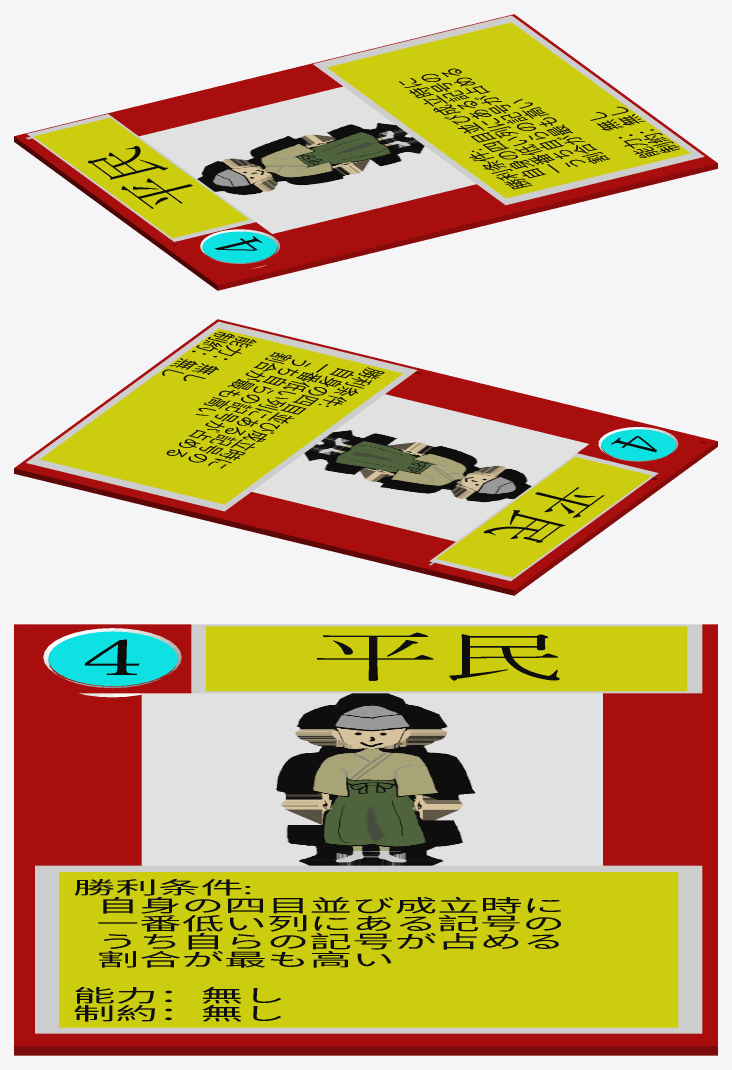
File: 平民赤.fbx
3 renders of one model, top to bottom at view 1: azimuth 30°, elevation 25°; view 2: azimuth 150°, elevation 25°; view 3: azimuth 270°, elevation 25°, orthographic. The views are drawn at different scales.
Visible parts, largest first — view 1: 説明欄, 平面.001, カード本体.001, 名前欄, 説明文, 円, 平面, 名前; view 2: 説明欄, 平面.001, カード本体.001, 名前欄, 説明文, 円, 平面, 名前; view 3: 説明欄, 平面.001, カード本体.001, 名前欄, 説明文, 平面, 円, 名前, コスト蘭.
Boxes of the visible parts, x1,y1,x2,y2 form: 説明欄: (313, 15, 704, 205); 平面.001: (139, 86, 476, 233); カード本体.001: (14, 14, 717, 290); 名前欄: (27, 114, 255, 241); 説明文: (399, 68, 679, 189); 円: (202, 231, 276, 262); 平面: (174, 222, 302, 275); 名前: (88, 146, 192, 208); 説明欄: (26, 321, 417, 511); 平面.001: (252, 394, 588, 541); カード本体.001: (14, 319, 717, 595); 名前欄: (429, 453, 658, 581); 説明文: (162, 331, 384, 468); 円: (601, 429, 675, 460); 平面: (577, 419, 704, 472); 名前: (483, 487, 604, 542); 説明欄: (35, 865, 702, 1033); 平面.001: (141, 693, 602, 865); カード本体.001: (14, 624, 717, 1055); 名前欄: (191, 624, 702, 693); 説明文: (74, 879, 560, 1021); 平面: (30, 624, 191, 693); 円: (48, 631, 177, 686); 名前: (317, 632, 559, 680); コスト蘭: (43, 628, 181, 697).
Size of the model in its own units: 281 by 6.07 by 198.
